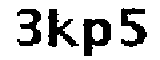3: (8, 7, 43, 51)
5: (117, 5, 152, 51)
k: (45, 5, 80, 51)
p: (81, 14, 114, 60)
